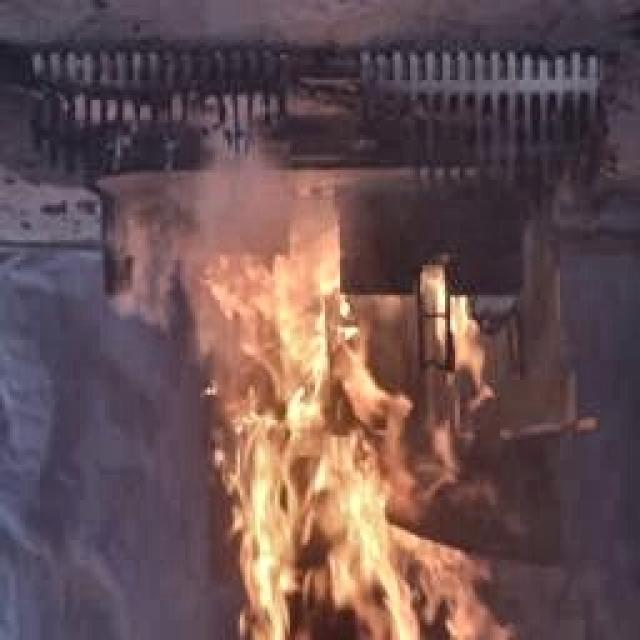fire: (146, 220, 586, 640)
